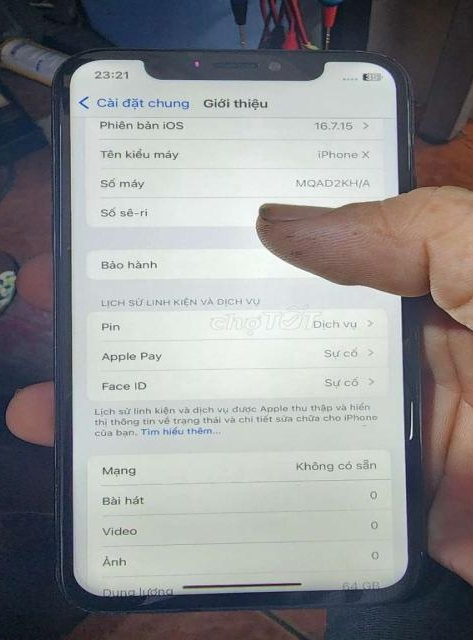scratch: (44, 311, 68, 547), (347, 44, 411, 76), (415, 311, 428, 467), (400, 94, 423, 178), (53, 237, 83, 261), (417, 546, 432, 563)
